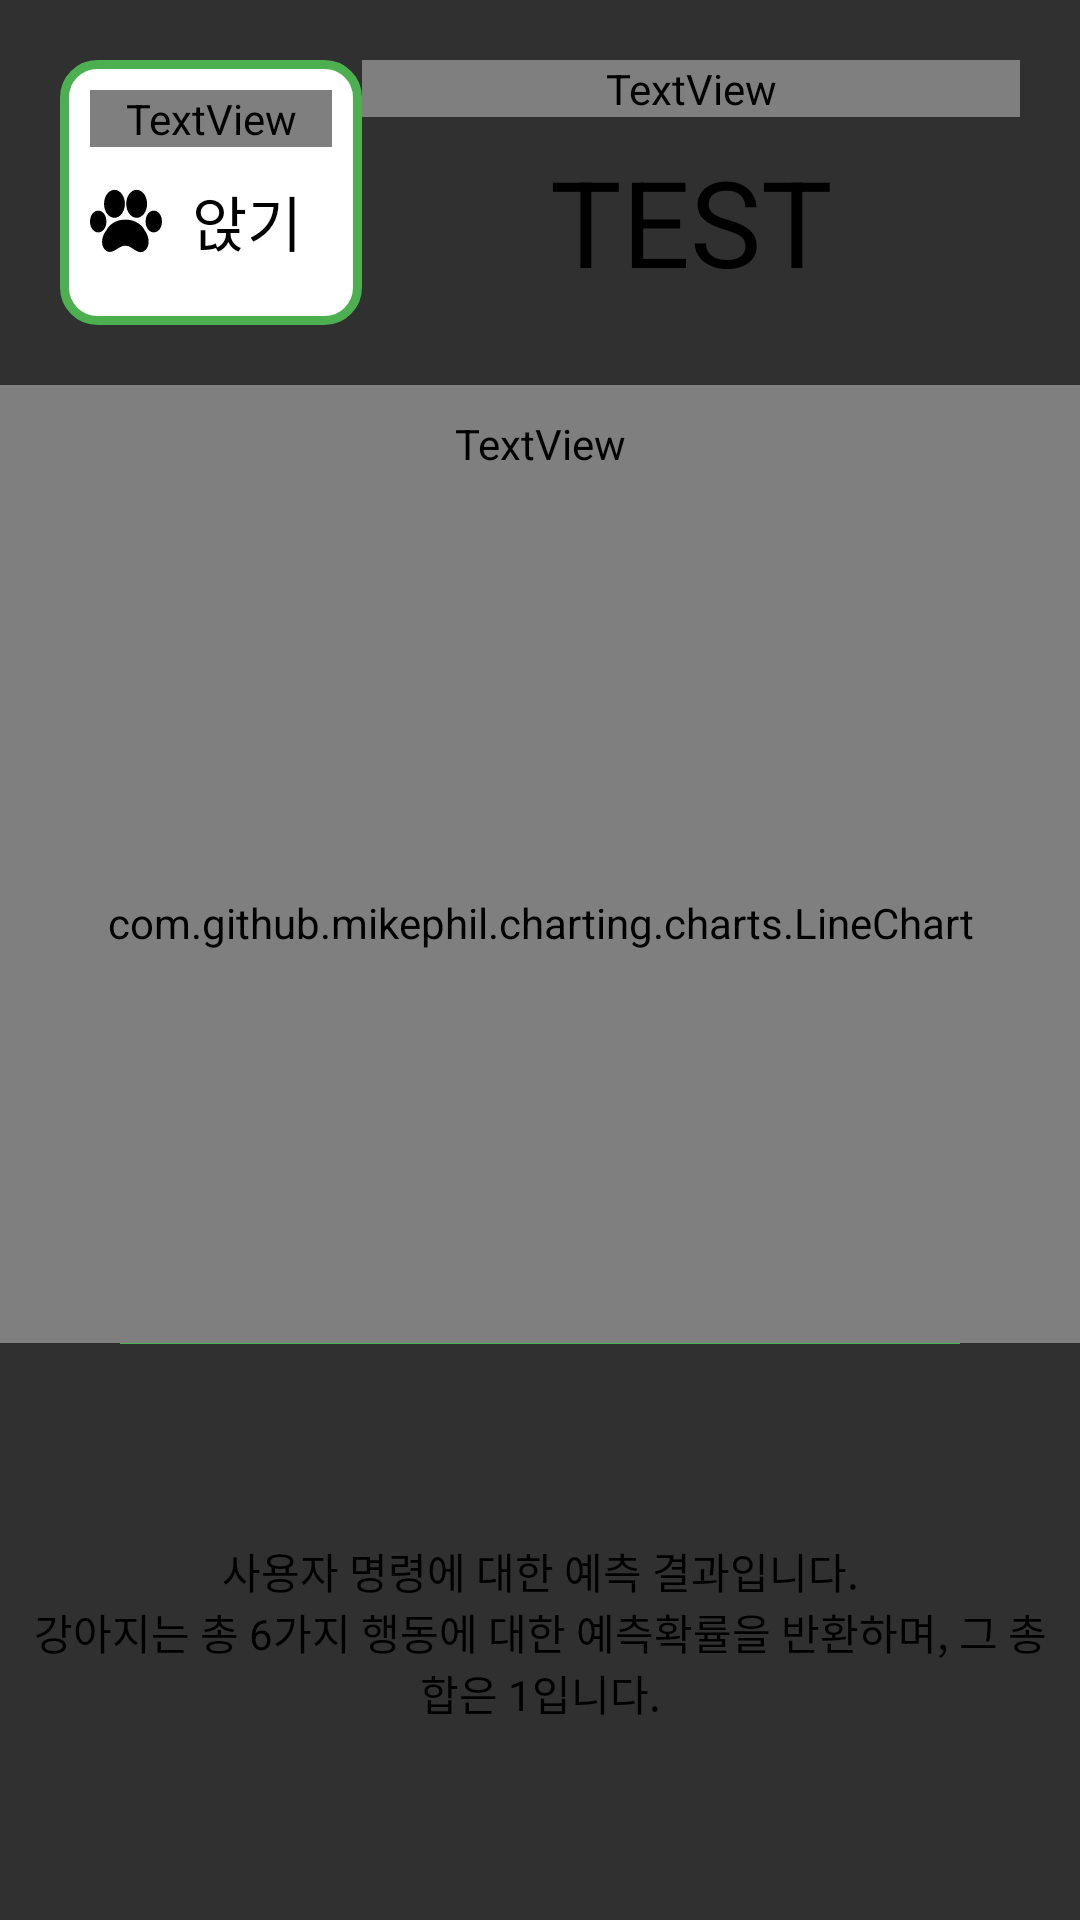

Named icons in this screenshot (1080 × 1920) and their centers, (x,y):
paw print: (126,221)
